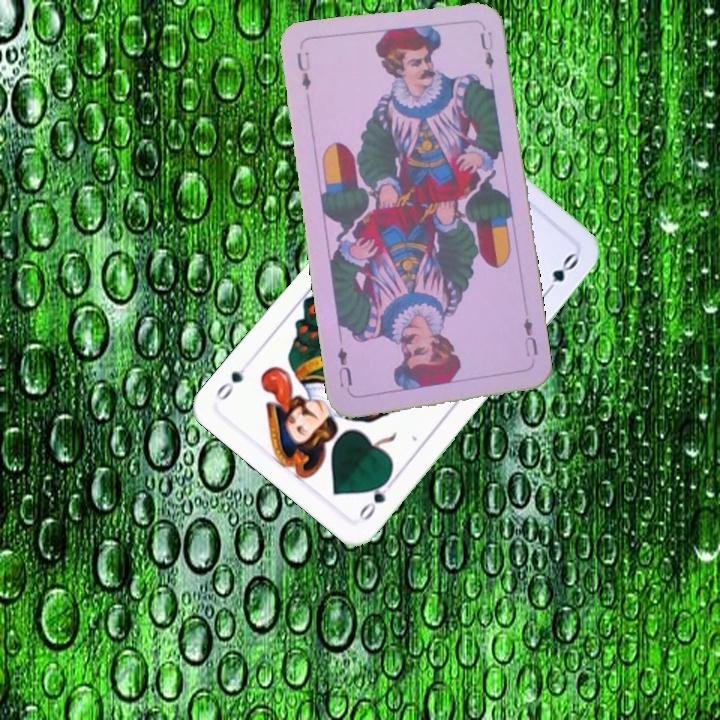EU: (292, 47, 314, 92), (519, 313, 540, 359)
GO: (355, 471, 399, 524)
